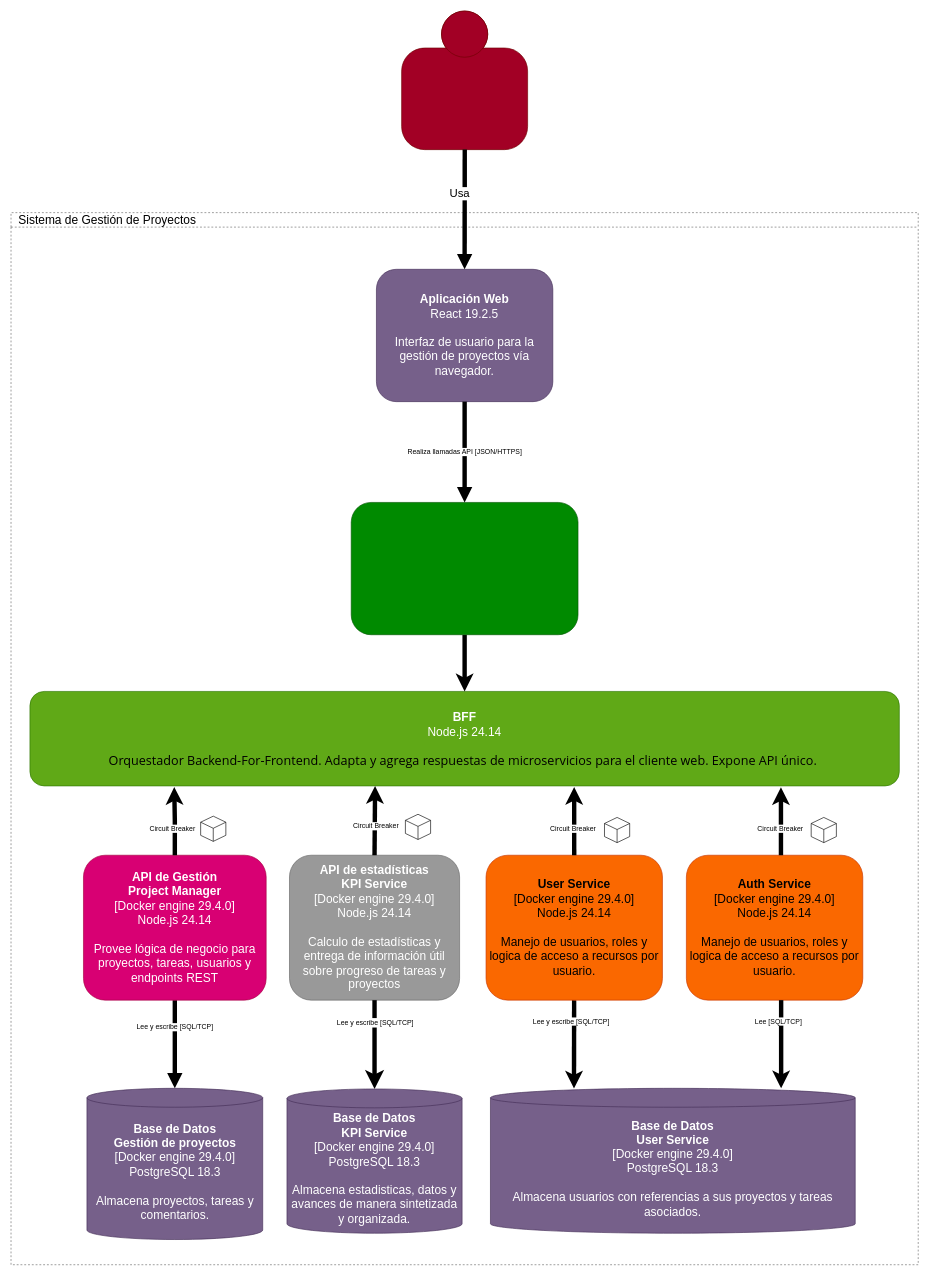
Some shapes in this 929 by 1276 pixel diagram are drawn without their labels. Here are the shapes that lost their labels. From the top down, the centre of each, then its label:
At (464,80): "Usuario [Trabajadores Profesionales] Gestiona proyectos, tareas y equipos.".
At (464,568): "API Gateway KrackenD Autenticación, seguridad, enrutamiento de solicitudes".
